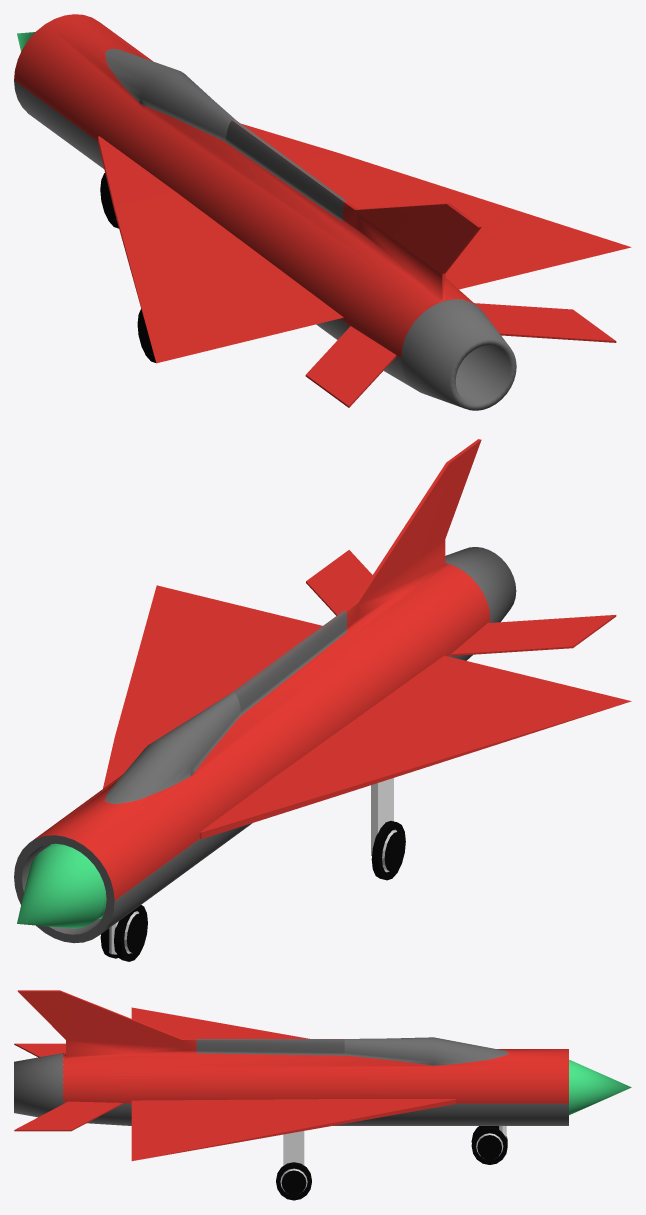
3 renders of one model, top to bottom at view 1: azimuth 30°, elevation 25°; view 2: azimuth 150°, elevation 25°; view 3: azimuth 270°, elevation 25°, orthographic. The views are drawn at different scales.
Parts seen in each view (by area): view 1: Fuse.001, Wing_L.001, Wing1_L.001, Wing1_R.001, Wing_R.001, Elevator_L.001, Wing2_L.001, Wing2_R.001, Elevator_R.001; view 2: Fuse.001, Wing_L.001, Wing1_L.001, Wing1_R.001, Wing_R.001, Elevator_L.001, Wing2_L.001, Wing2_R.001, Elevator_R.001, 円柱.003, 円柱.004, 立方体.001; view 3: Fuse.001, Wing_R.001, Wing1_R.001, Elevator_R.001, Wing2_R.001, Wing2_L.001, 円柱.003, 円柱.004, Wing1_L.001, 立方体.001, Elevator_L.001.
Part boxes in pixels (left/top/right/bottom): Fuse.001: left=14, top=14, right=516, bottom=410; Wing_L.001: left=98, top=136, right=343, bottom=325; Wing1_L.001: left=114, top=208, right=310, bottom=345; Wing1_R.001: left=339, top=153, right=558, bottom=284; Wing_R.001: left=242, top=124, right=477, bottom=289; Elevator_L.001: left=305, top=326, right=396, bottom=407; Wing2_L.001: left=132, top=273, right=229, bottom=363; Wing2_R.001: left=461, top=192, right=631, bottom=264; Elevator_R.001: left=474, top=303, right=616, bottom=342; Fuse.001: left=14, top=439, right=516, bottom=943; Wing_L.001: left=199, top=655, right=477, bottom=839; Wing1_L.001: left=338, top=663, right=558, bottom=795; Wing1_R.001: left=115, top=603, right=310, bottom=735; Wing_R.001: left=103, top=623, right=322, bottom=788; Elevator_L.001: left=451, top=615, right=616, bottom=655; Wing2_L.001: left=461, top=683, right=631, bottom=755; Wing2_R.001: left=132, top=585, right=229, bottom=672; Elevator_R.001: left=306, top=550, right=372, bottom=615; 円柱.003: left=100, top=905, right=147, bottom=961; 円柱.004: left=371, top=821, right=405, bottom=880; 立方体.001: left=371, top=778, right=393, bottom=855; Fuse.001: left=14, top=990, right=631, bottom=1125; Wing_R.001: left=131, top=1099, right=456, bottom=1121; Wing1_R.001: left=131, top=1111, right=353, bottom=1138; Elevator_R.001: left=14, top=1101, right=122, bottom=1131; Wing2_R.001: left=131, top=1136, right=260, bottom=1160; Wing2_L.001: left=131, top=1007, right=260, bottom=1030; 円柱.003: left=471, top=1126, right=507, bottom=1164; 円柱.004: left=276, top=1162, right=311, bottom=1200; Wing1_L.001: left=162, top=1030, right=309, bottom=1038; 立方体.001: left=283, top=1131, right=304, bottom=1165; Elevator_L.001: left=14, top=1043, right=65, bottom=1057.
Bounding box in the file's own units: 9.01 × 4.67 × 15.29.
Materials: 6 (2 with a texture image).
